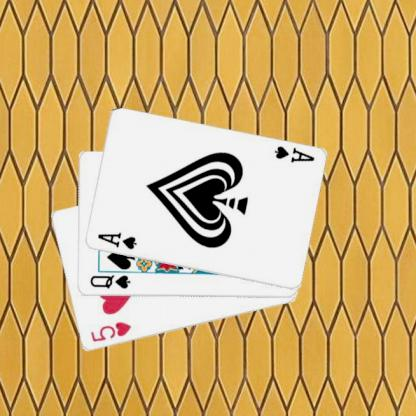5H: (87, 320, 132, 344)
AS: (94, 230, 138, 251), (271, 143, 315, 164)
QS: (87, 272, 132, 291)
